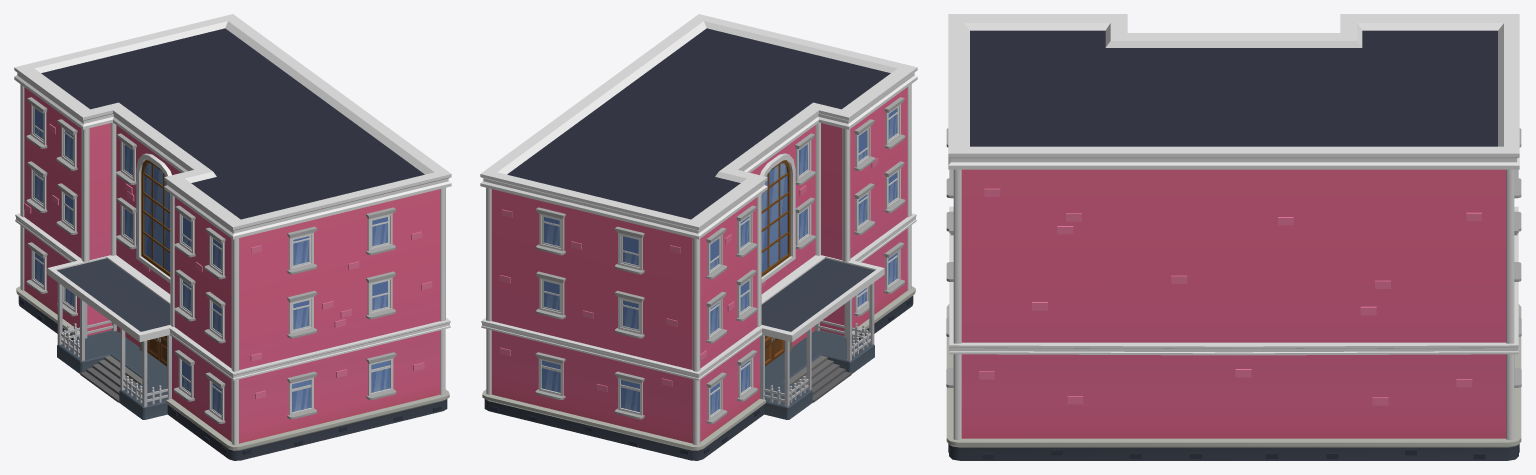
The model's file is Building_5_2_L.fbx.
3 views of the same model, side by side, from view 1: azimuth 30°, elevation 25°; view 2: azimuth 150°, elevation 25°; view 3: azimuth 270°, elevation 25° (orthographic). The views are drawn at different scales.
Visible parts, largest first — view 1: Building_5_2_L; view 2: Building_5_2_L; view 3: Building_5_2_L.
Part boxes in pixels (x1,y1,x2,y2): Building_5_2_L: (14,14,451,460); Building_5_2_L: (480,14,917,460); Building_5_2_L: (946,14,1521,460).
Bounding box in the file's own units: 1251 × 1126 × 1908.
